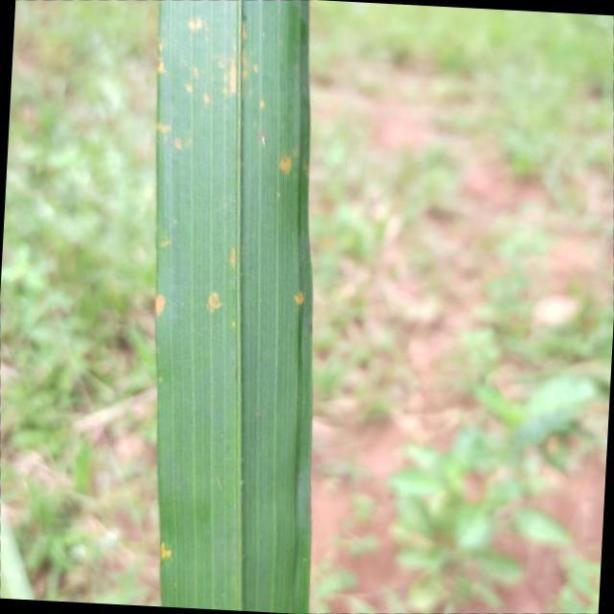Kalium: (150, 1, 310, 614)
